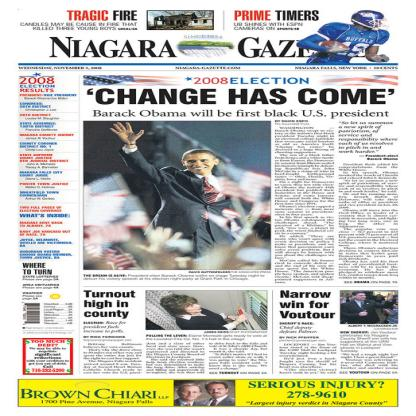Helmet: (353, 8, 400, 26)
